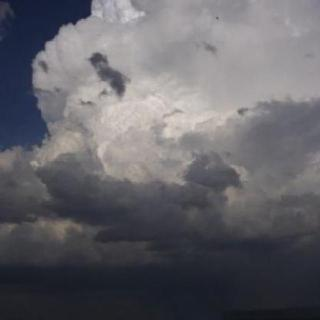Cumulonimbus: (6, 0, 320, 279)
